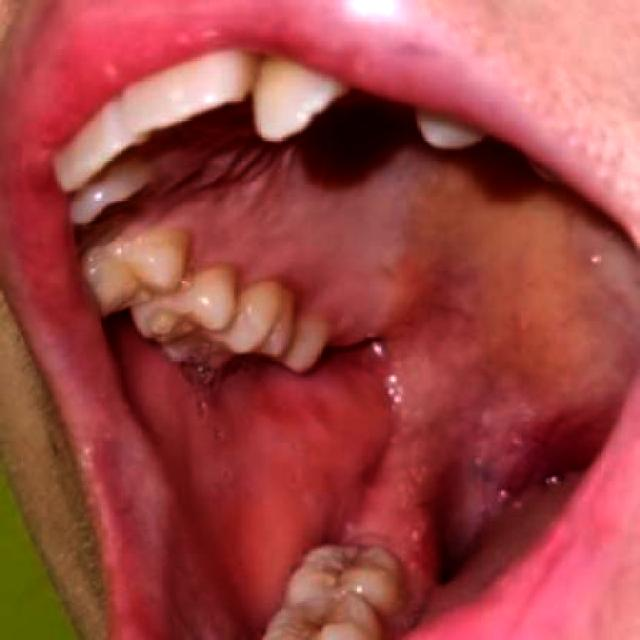Plaque: (318, 551, 385, 585), (289, 606, 360, 635)
